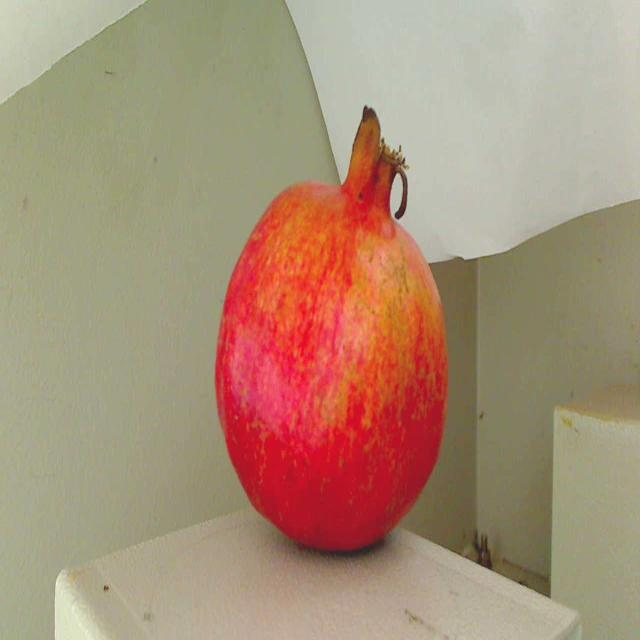pomegranate: (205, 87, 457, 578)
